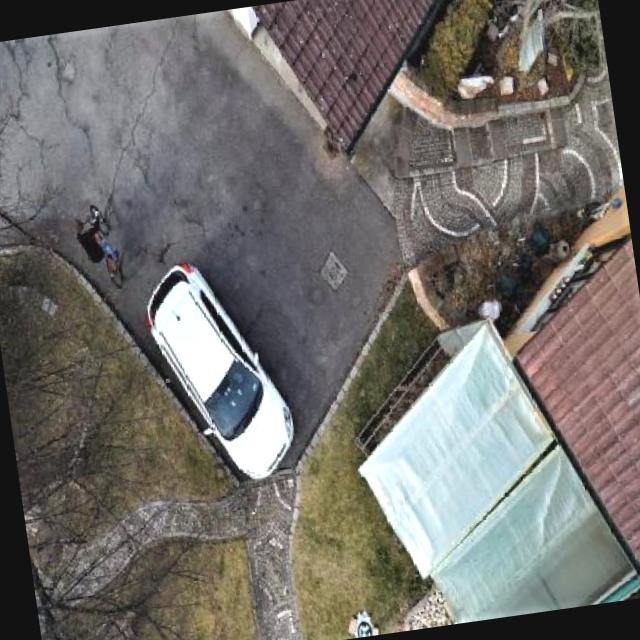Person: (72, 206, 110, 274)
